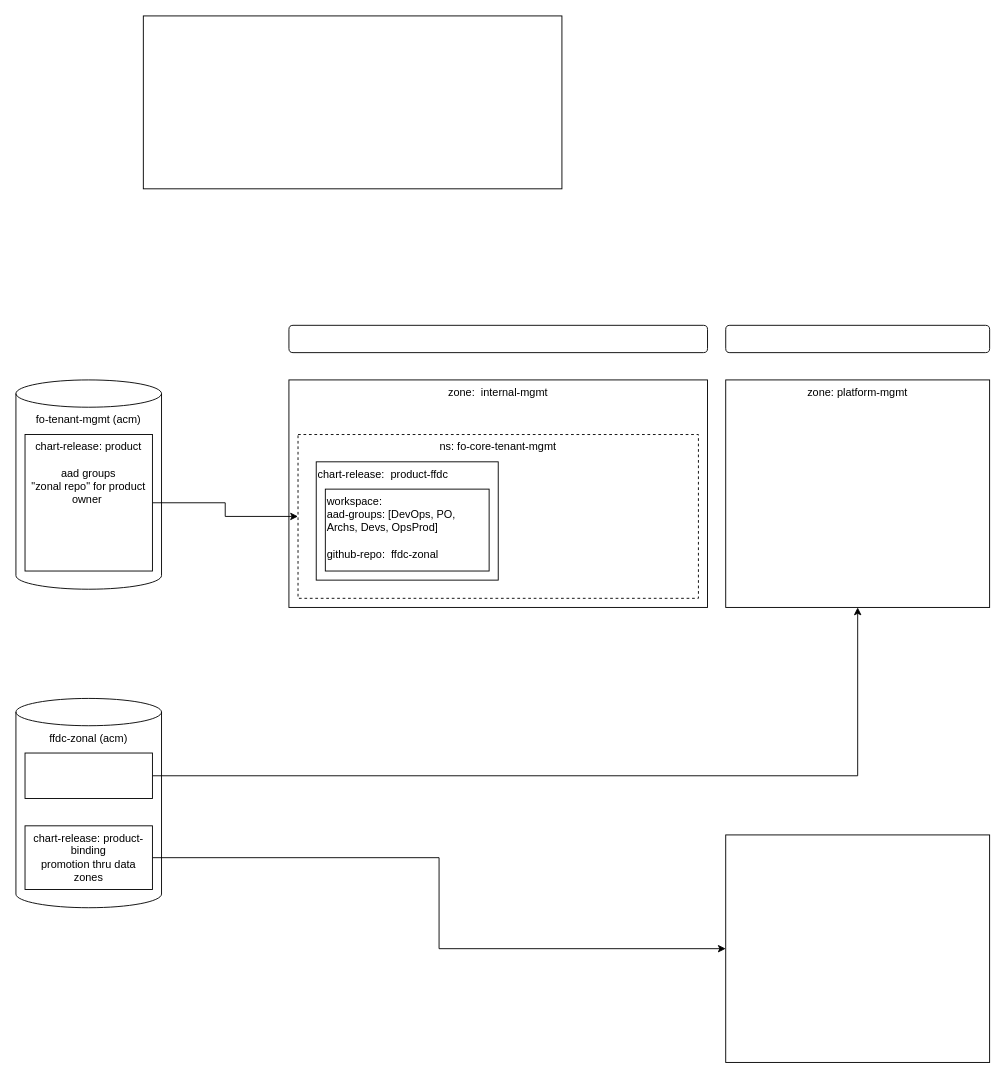
Some shapes in this 1006 by 1078 pixel diagram are drawn without their labels. Each missing label, with the centre of its shape:
chart-release: product e.g. teams.yml promotion thru ctl zones: (88,775)
Internal: (498,338)
Platform: (857,338)
TF Cloud: (352,102)
zone: platform-eastus: (857,948)
